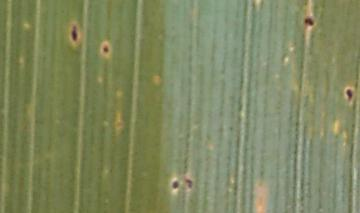tarspot: (70, 24, 78, 43), (345, 86, 354, 101), (304, 15, 314, 26), (171, 180, 180, 191), (185, 177, 193, 189), (102, 44, 110, 54)
